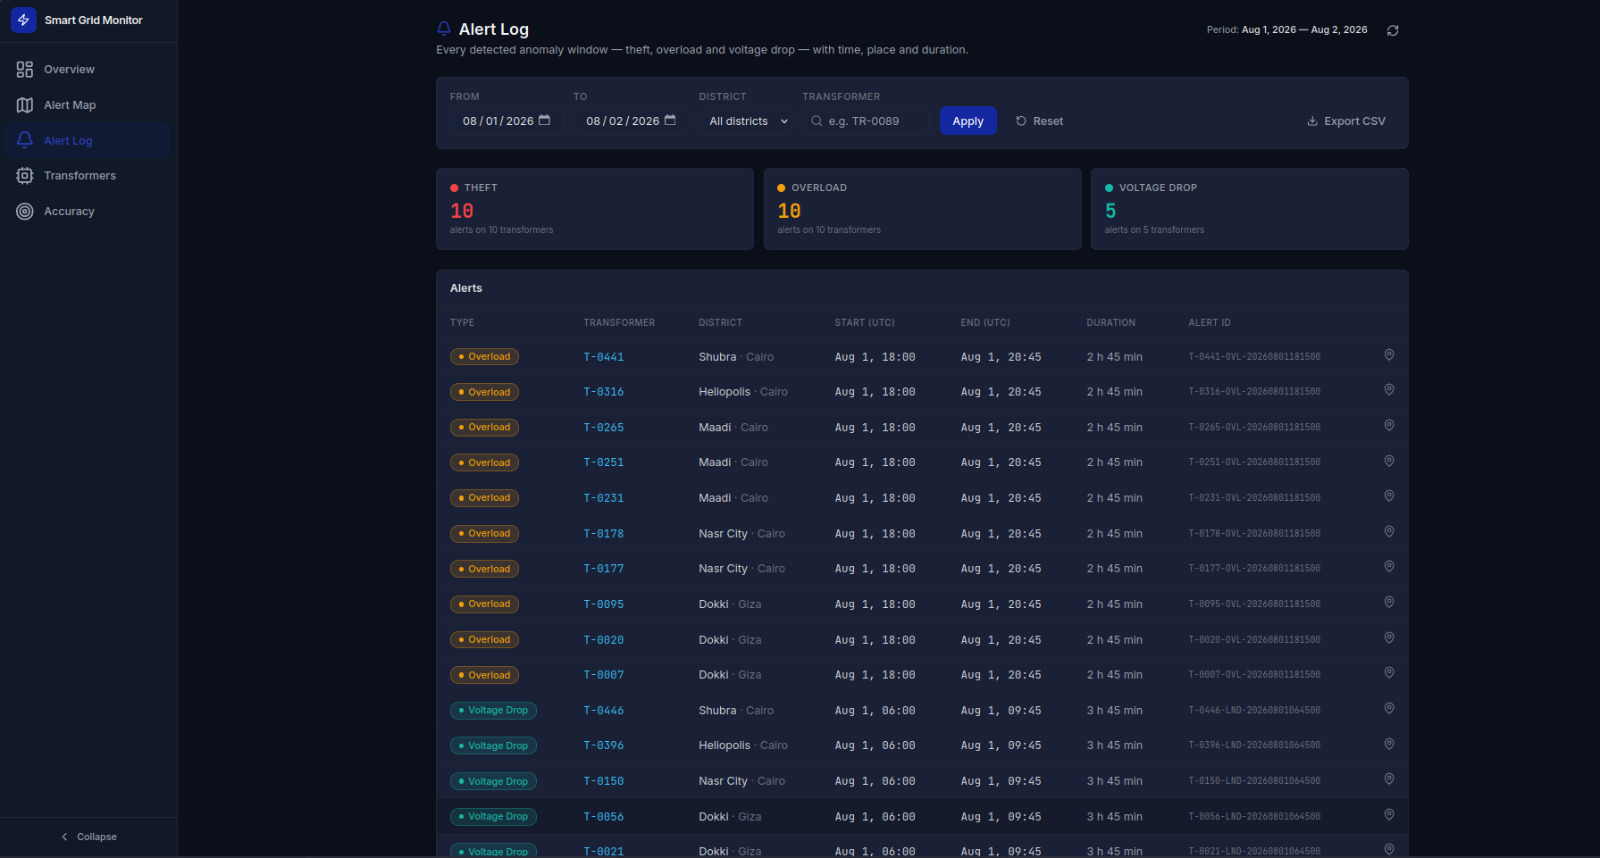

The page's visual inventory and layout, read from the dashboard file:
{"tool":"powerbi","page":{"name":"Alert Log","canvas":[1280,720],"ordinal":2},"visuals":[{"type":"cardVisual","fields":{"Data":["ANOMALY_FLAGS.Theft Transformers"]},"box":[40,88,188,102],"z":0},{"type":"cardVisual","fields":{"Data":["ANOMALY_FLAGS.Overload Transformers"]},"box":[288,88,188,102],"z":1000},{"type":"cardVisual","fields":{"Data":["ANOMALY_FLAGS.Line Drop Transformers"]},"box":[536,88,188,102],"z":2000},{"type":"slicer","fields":{"Values":["DIM_TRANSFORMERS.DISTRICT"]},"box":[908,214,340,224],"z":5000},{"type":"cardVisual","fields":{"Data":["ANOMALY_FLAGS.Flagged Transformers"]},"box":[784,88,444,102],"z":7000},{"type":"slicer","fields":{"Values":["ANOMALY_FLAGS.EVENT_TYPE"]},"box":[908,466,340,230],"z":7001},{"type":"tableEx","title":"Alert Log  (newest first)","fields":{"Values":["ANOMALY_FLAGS.START_TS","ANOMALY_FLAGS.END_TS","ANOMALY_FLAGS.EVENT_TYPE","ANOMALY_FLAGS.TRANSFORMER_ID","DIM_TRANSFORMERS.DISTRICT"]},"box":[32,214,844,482],"z":7002}]}

Visuals, with their boxes on the page's 1280x720 design canvas (x1, y1, x2, y2). These are canvas units, not pixel positions in the 1600x858 screenshot, which may show the page scaled, cropped or inside an application window:
cardVisual - ANOMALY_FLAGS.Theft Transformers: select_region(40, 88, 228, 190)
cardVisual - ANOMALY_FLAGS.Overload Transformers: select_region(288, 88, 476, 190)
cardVisual - ANOMALY_FLAGS.Line Drop Transformers: select_region(536, 88, 724, 190)
slicer - DIM_TRANSFORMERS.DISTRICT: select_region(908, 214, 1248, 438)
cardVisual - ANOMALY_FLAGS.Flagged Transformers: select_region(784, 88, 1228, 190)
slicer - ANOMALY_FLAGS.EVENT_TYPE: select_region(908, 466, 1248, 696)
"Alert Log  (newest first)" tableEx: select_region(32, 214, 876, 696)
